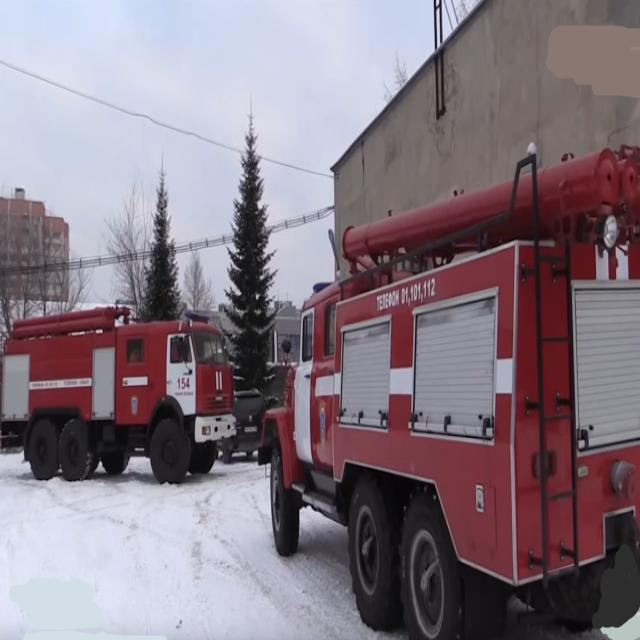fire fighting vehicle: (270, 147, 640, 640), (2, 305, 237, 485)
non emergency car: (230, 386, 269, 463)
